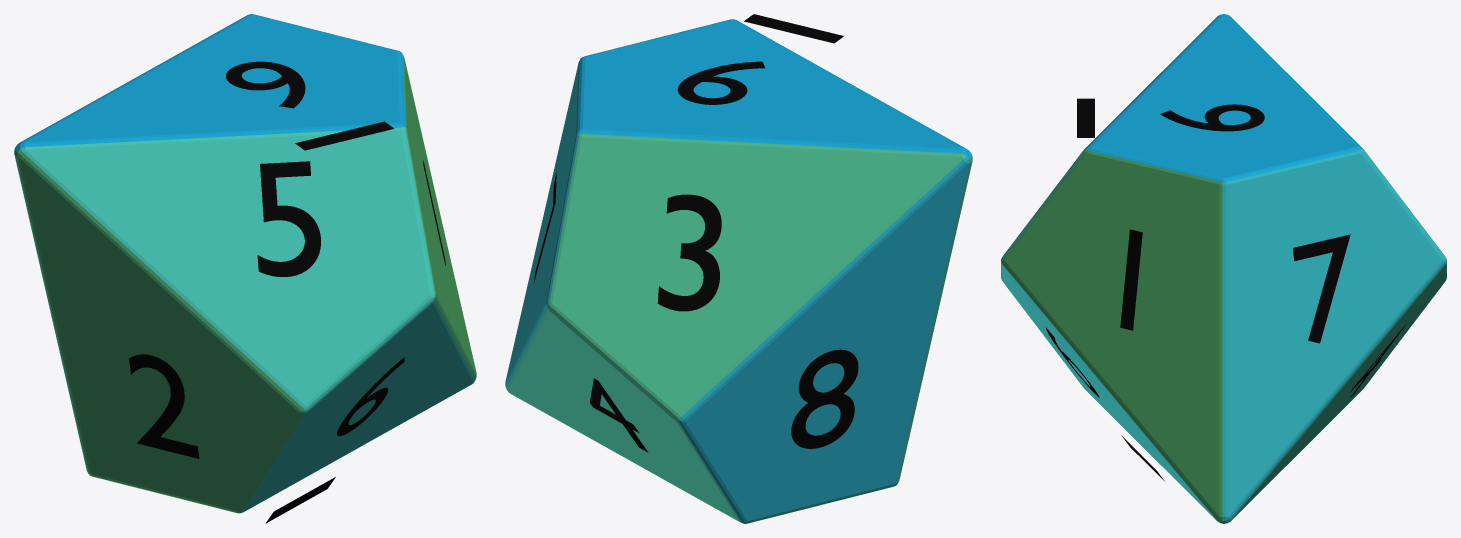
The picture shows the model from 3 angles, left to right: view 1: azimuth 30°, elevation 25°; view 2: azimuth 150°, elevation 25°; view 3: azimuth 270°, elevation 25°; orthographic projection. The views are drawn at different scales.
Visible parts, largest first — view 1: d10, d10_num; view 2: d10, d10_num; view 3: d10, d10_num.
Part boxes in pixels (bbox=[...]): d10: bbox=[14, 14, 476, 513]; d10_num: bbox=[129, 61, 445, 523]; d10: bbox=[505, 19, 972, 523]; d10_num: bbox=[534, 14, 858, 452]; d10: bbox=[1001, 14, 1446, 523]; d10_num: bbox=[1046, 98, 1405, 481].
Bounding box in the file's own units: 2.52 × 2.06 × 2.36.
